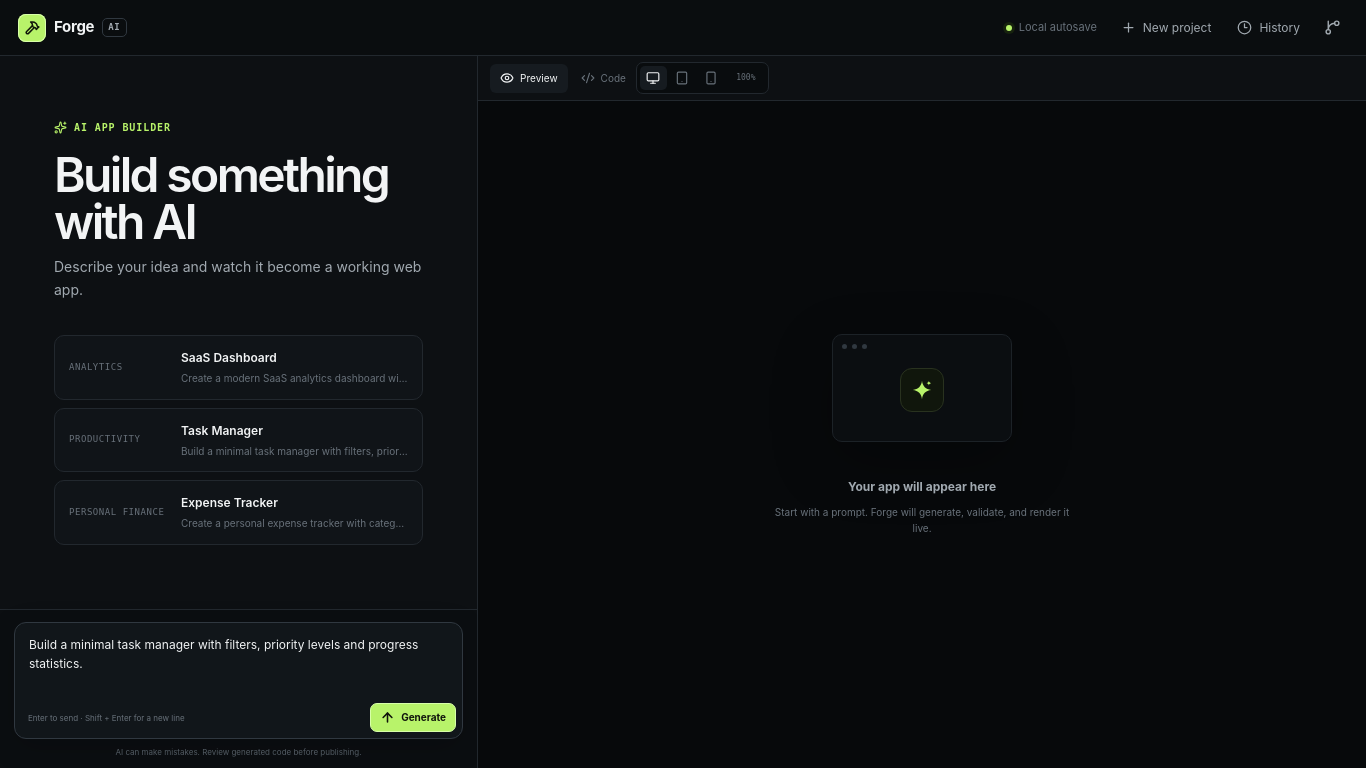
Test case: BuilderWorkspace › fills the composer from an example prompt
Expected: the text box named "describe your app" holds "Build a minimal task manager with filters, priority levels and progress statistics.", [15, 623, 462, 698]
Expected: the heading "Build something with AI" is shown, [54, 151, 423, 245]
Click the button with aria-label "use saas dashboard example": (239, 368) [54, 336, 423, 400]
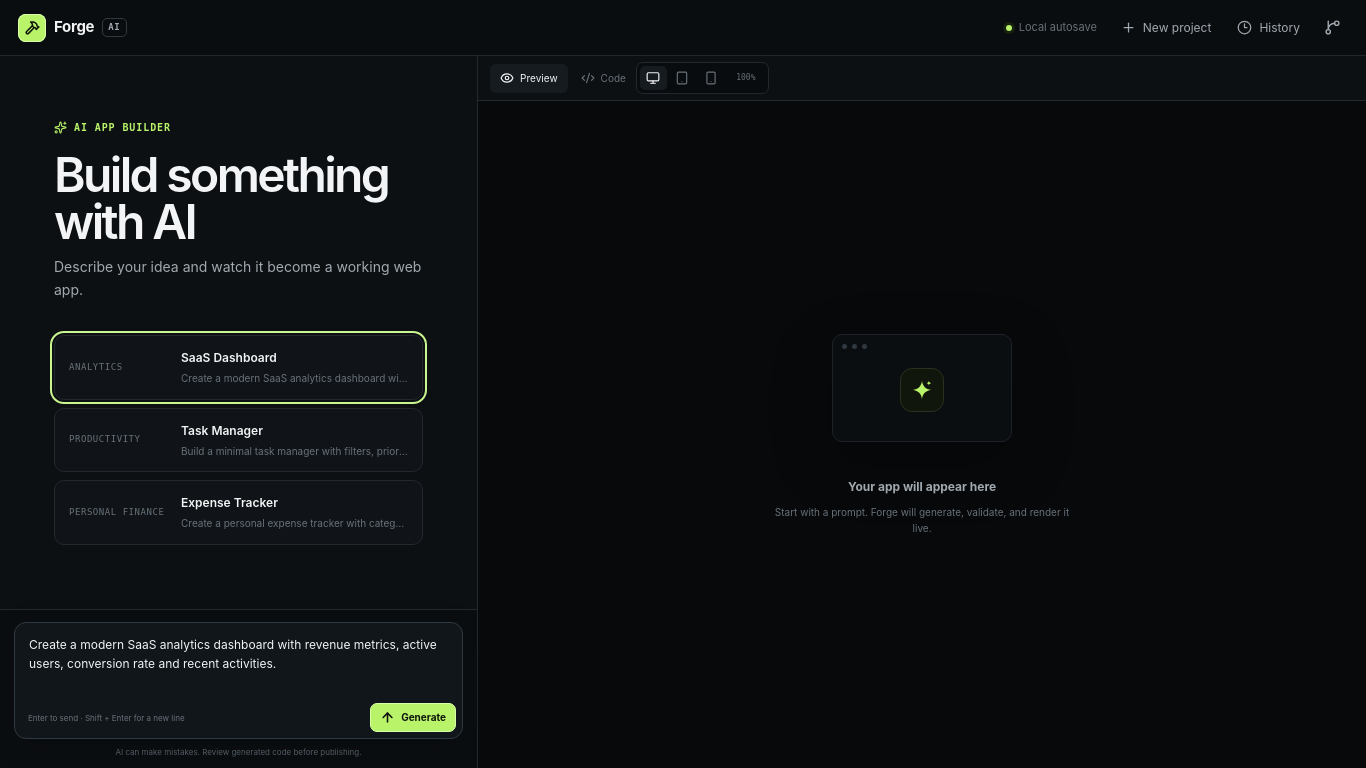
Expected: the text box named "describe your app" holds "Create a modern SaaS analytics dashboard with revenue metrics, active users, conversion rate and recent activities.", [15, 623, 462, 698]
